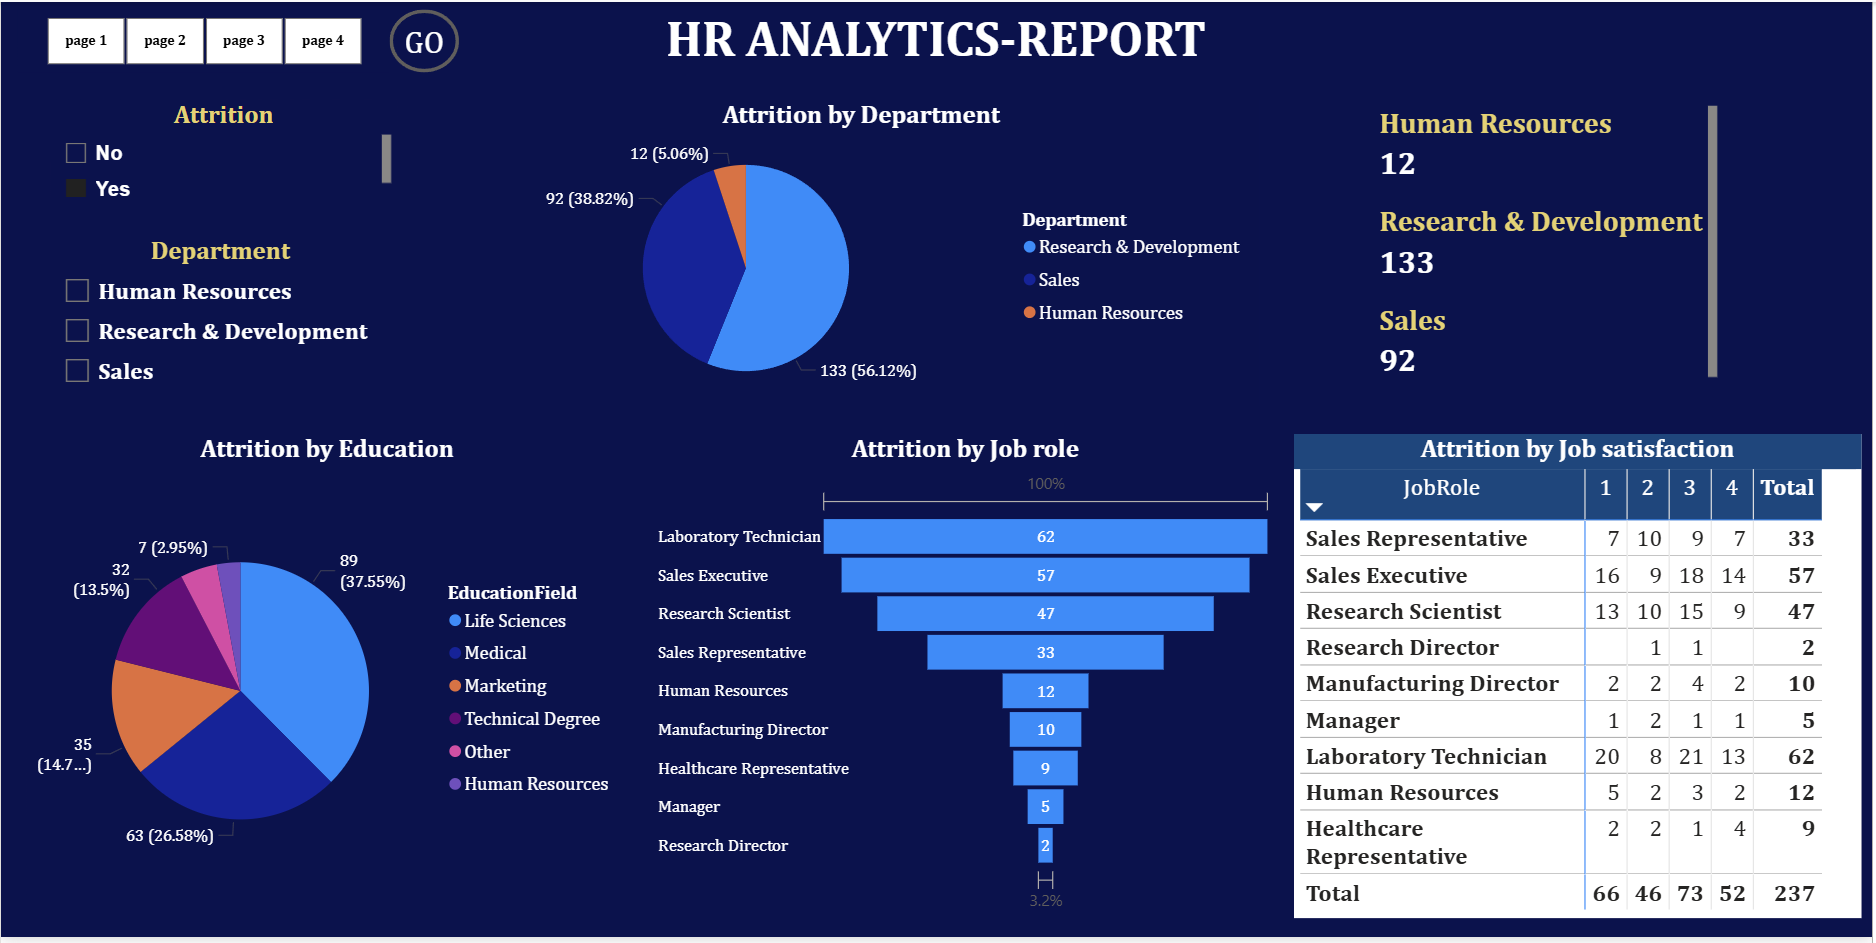

The dashboard page shown, as its layout file describes it:
{"tool":"powerbi","page":{"name":"page 3","canvas":[1600,800],"ordinal":2},"visuals":[{"type":"textbox","box":[493.8,0,611.5,66.8],"z":0},{"type":"slicer","title":"Department","fields":{"Values":["HR Analytics Data.Department"]},"box":[42.1,200.4,290.5,145.2],"z":1000},{"type":"multiRowCard","fields":{"Values":["HR Analytics Data.Department","Sum(HR Analytics Data.EmployeeCount)"]},"box":[1173.6,82.8,299.2,254.2],"z":2000},{"type":"actionButton","title":"GO","box":[332.6,5.8,59.6,53.7],"z":3000},{"type":"pieChart","title":"Attrition by Education","fields":{"Y":["CountNonNull(HR Analytics Data.Attrition)"],"Category":["HR Analytics Data.EducationField"]},"box":[21.8,368.9,514.2,413.9],"z":4000},{"type":"slicer","title":"Attrition","fields":{"Values":["HR Analytics Data.Attrition"]},"box":[42.1,82.8,296.3,88.6],"z":5000},{"type":"pivotTable","title":"Attrition by Job satisfaction","fields":{"Rows":["HR Analytics Data.JobRole"],"Columns":["HR Analytics Data.JobSatisfaction"],"Values":["CountNonNull(HR Analytics Data.Attrition)"]},"box":[1105.3,368.9,485.1,413.9],"z":6000},{"type":"pieChart","title":"Attrition by Department","fields":{"Y":["CountNonNull(HR Analytics Data.Attrition)"],"Category":["HR Analytics Data.Department"]},"box":[395.1,82.8,681.2,262.9],"z":7000},{"type":"funnel","title":"Attrition by Job role","fields":{"Category":["HR Analytics Data.JobRole"],"Y":["CountNonNull(HR Analytics Data.Attrition)"]},"box":[556.3,368.9,536,413.9],"z":8000},{"type":"slicer","title":"Department","fields":{"Values":["Table.Column1"]},"box":[14.5,5.8,318.1,53.7],"z":9000}]}

Visuals, with their boxes in screenshot pixels (x1, y1, x2, y2), scaled from the page's 1600x800 canvas onto the 1876x943 screenshot:
textbox: [x1=579, y1=0, x2=1296, y2=79]
"Department" slicer: [x1=49, y1=236, x2=390, y2=407]
multiRowCard - HR Analytics Data.Department x Sum(HR Analytics Data.EmployeeCount): [x1=1376, y1=98, x2=1727, y2=397]
"GO" actionButton: [x1=390, y1=7, x2=460, y2=70]
"Attrition by Education" pieChart: [x1=26, y1=435, x2=628, y2=923]
"Attrition" slicer: [x1=49, y1=98, x2=397, y2=202]
"Attrition by Job satisfaction" pivotTable: [x1=1296, y1=435, x2=1865, y2=923]
"Attrition by Department" pieChart: [x1=463, y1=98, x2=1262, y2=407]
"Attrition by Job role" funnel: [x1=652, y1=435, x2=1281, y2=923]
"Department" slicer: [x1=17, y1=7, x2=390, y2=70]
